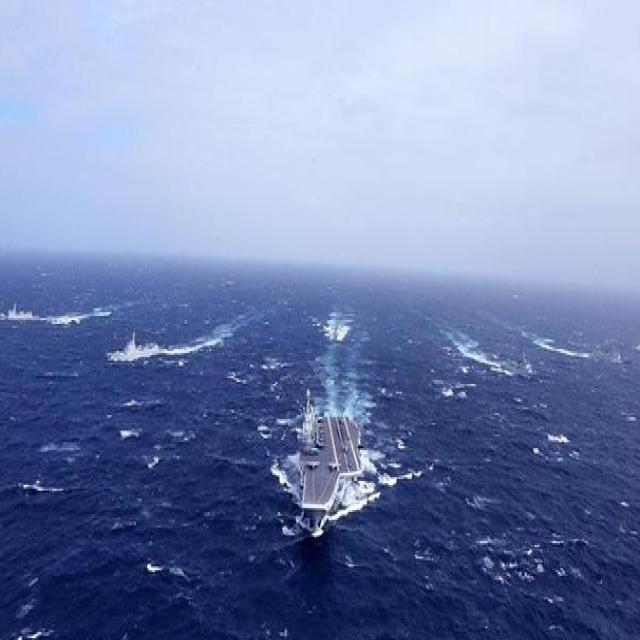navalvessels: (295, 391, 366, 523), (107, 325, 163, 364), (494, 341, 541, 383), (590, 336, 633, 368), (0, 295, 39, 322), (323, 311, 349, 346)
